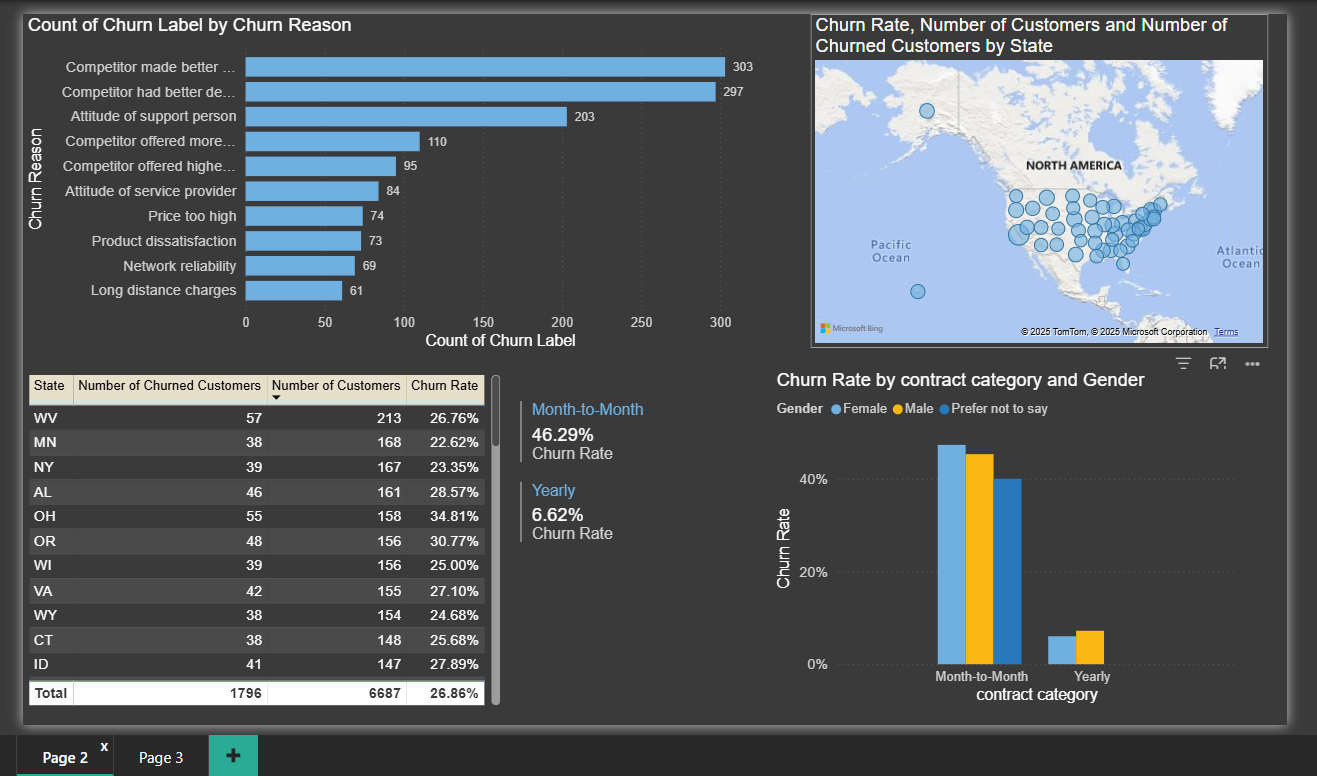

This screenshot's page, from the dashboard's own definition file:
{"tool":"powerbi","page":{"name":"Page 2","canvas":[1280,720],"ordinal":1},"visuals":[{"type":"clusteredBarChart","fields":{"Category":["Databel - Data.Churn Reason"],"Y":["CountNonNull(Databel - Data.Churn Label)"]},"box":[0,0,758.7,344.3],"z":0},{"type":"map","fields":{"Category":["Databel - Data.State"],"Size":["Databel - Data.Churn Rate"]},"box":[797,0,463.5,338],"z":1000},{"type":"tableEx","fields":{"Values":["Databel - Data.State","Databel - Data.Number of Churned Customers","Databel - Data.Number of Customers","Databel - Data.Churn Rate"]},"box":[0,360.3,488.1,344.3],"z":2000},{"type":"multiRowCard","fields":{"Values":["Databel - Data.contract category","Databel - Data.Churn Rate"]},"box":[498.6,387,218.8,184.1],"z":3001},{"type":"clusteredColumnChart","fields":{"Category":["Databel - Data.contract category"],"Y":["Databel - Data.Churn Rate"],"Series":["Databel - Data.Gender"]},"box":[758,359.4,475.4,343.5],"z":3002}]}

Visuals, with their boxes on the page's 1280x720 design canvas (x1, y1, x2, y2). These are canvas units, not pixel positions in the 1317x776 screenshot, which may show the page scaled, cropped or inside an application window:
clusteredBarChart - Databel - Data.Churn Reason x CountNonNull(Databel - Data.Churn Label): pyautogui.locateOnScreen(0, 0, 759, 344)
map - Databel - Data.State x Databel - Data.Churn Rate: pyautogui.locateOnScreen(797, 0, 1260, 338)
tableEx - Databel - Data.State x Databel - Data.Number of Churned Customers: pyautogui.locateOnScreen(0, 360, 488, 705)
multiRowCard - Databel - Data.contract category x Databel - Data.Churn Rate: pyautogui.locateOnScreen(499, 387, 717, 571)
clusteredColumnChart - Databel - Data.contract category x Databel - Data.Churn Rate: pyautogui.locateOnScreen(758, 359, 1233, 703)
